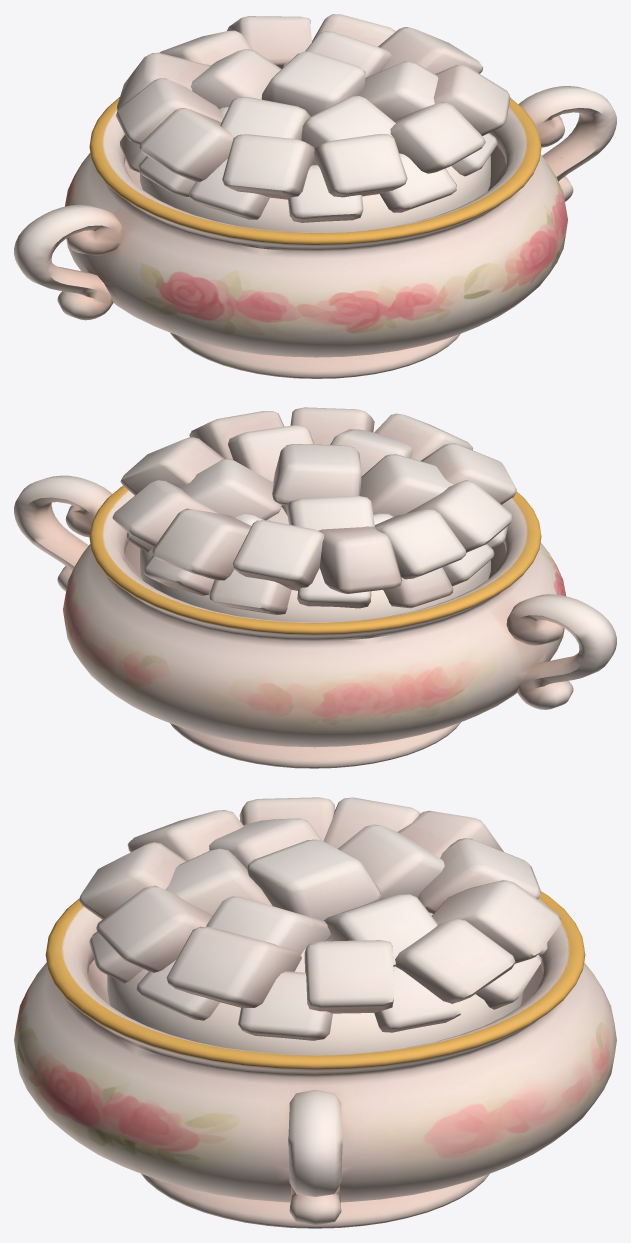
File: sugar_bowl_v2.glb
3 renders of one model, top to bottom at view 1: azimuth 30°, elevation 25°; view 2: azimuth 150°, elevation 25°; view 3: azimuth 270°, elevation 25°, orthographic. The views are drawn at different scales.
Visible parts, largest first — view 1: sugar_bowl; view 2: sugar_bowl; view 3: sugar_bowl.
Part boxes in pixels (x1,y1,x2,y2): sugar_bowl: (14, 14, 616, 378); sugar_bowl: (14, 407, 616, 768); sugar_bowl: (14, 797, 616, 1228).
Bounding box in the file's own units: 2.96 × 1.2 × 2.2.
1 material, 1 textured.
